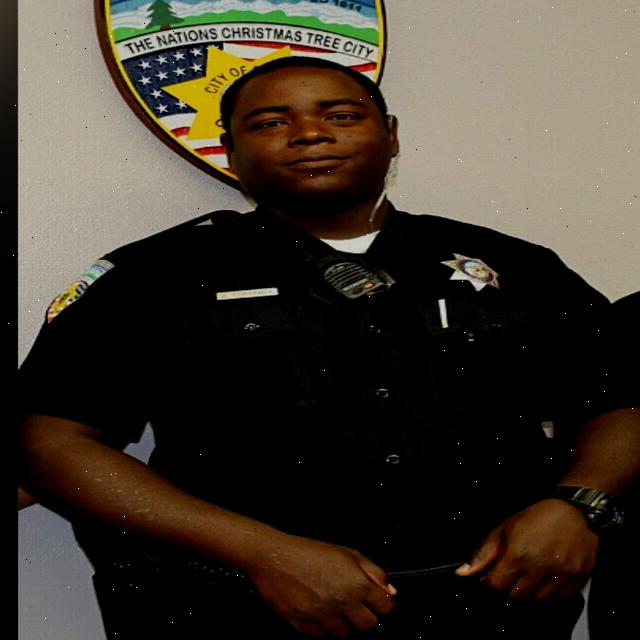police: (10, 26, 633, 640)
